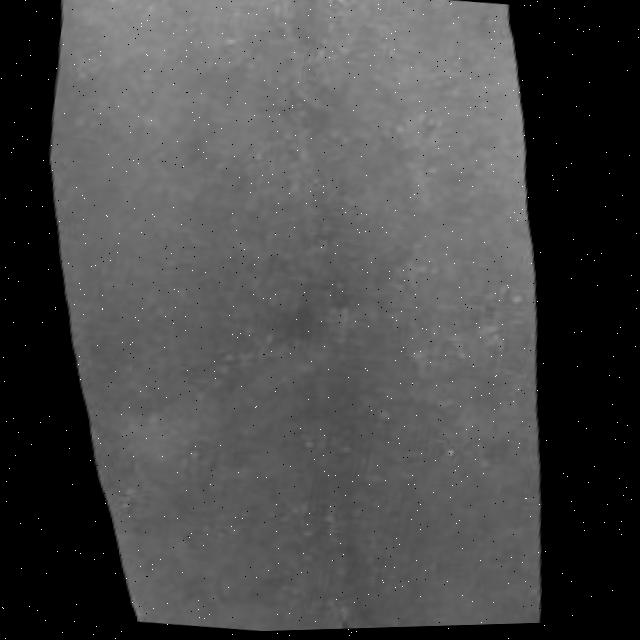mite: (438, 439, 470, 465), (443, 444, 465, 462), (448, 447, 462, 460)
sunburn: (398, 5, 639, 630)
